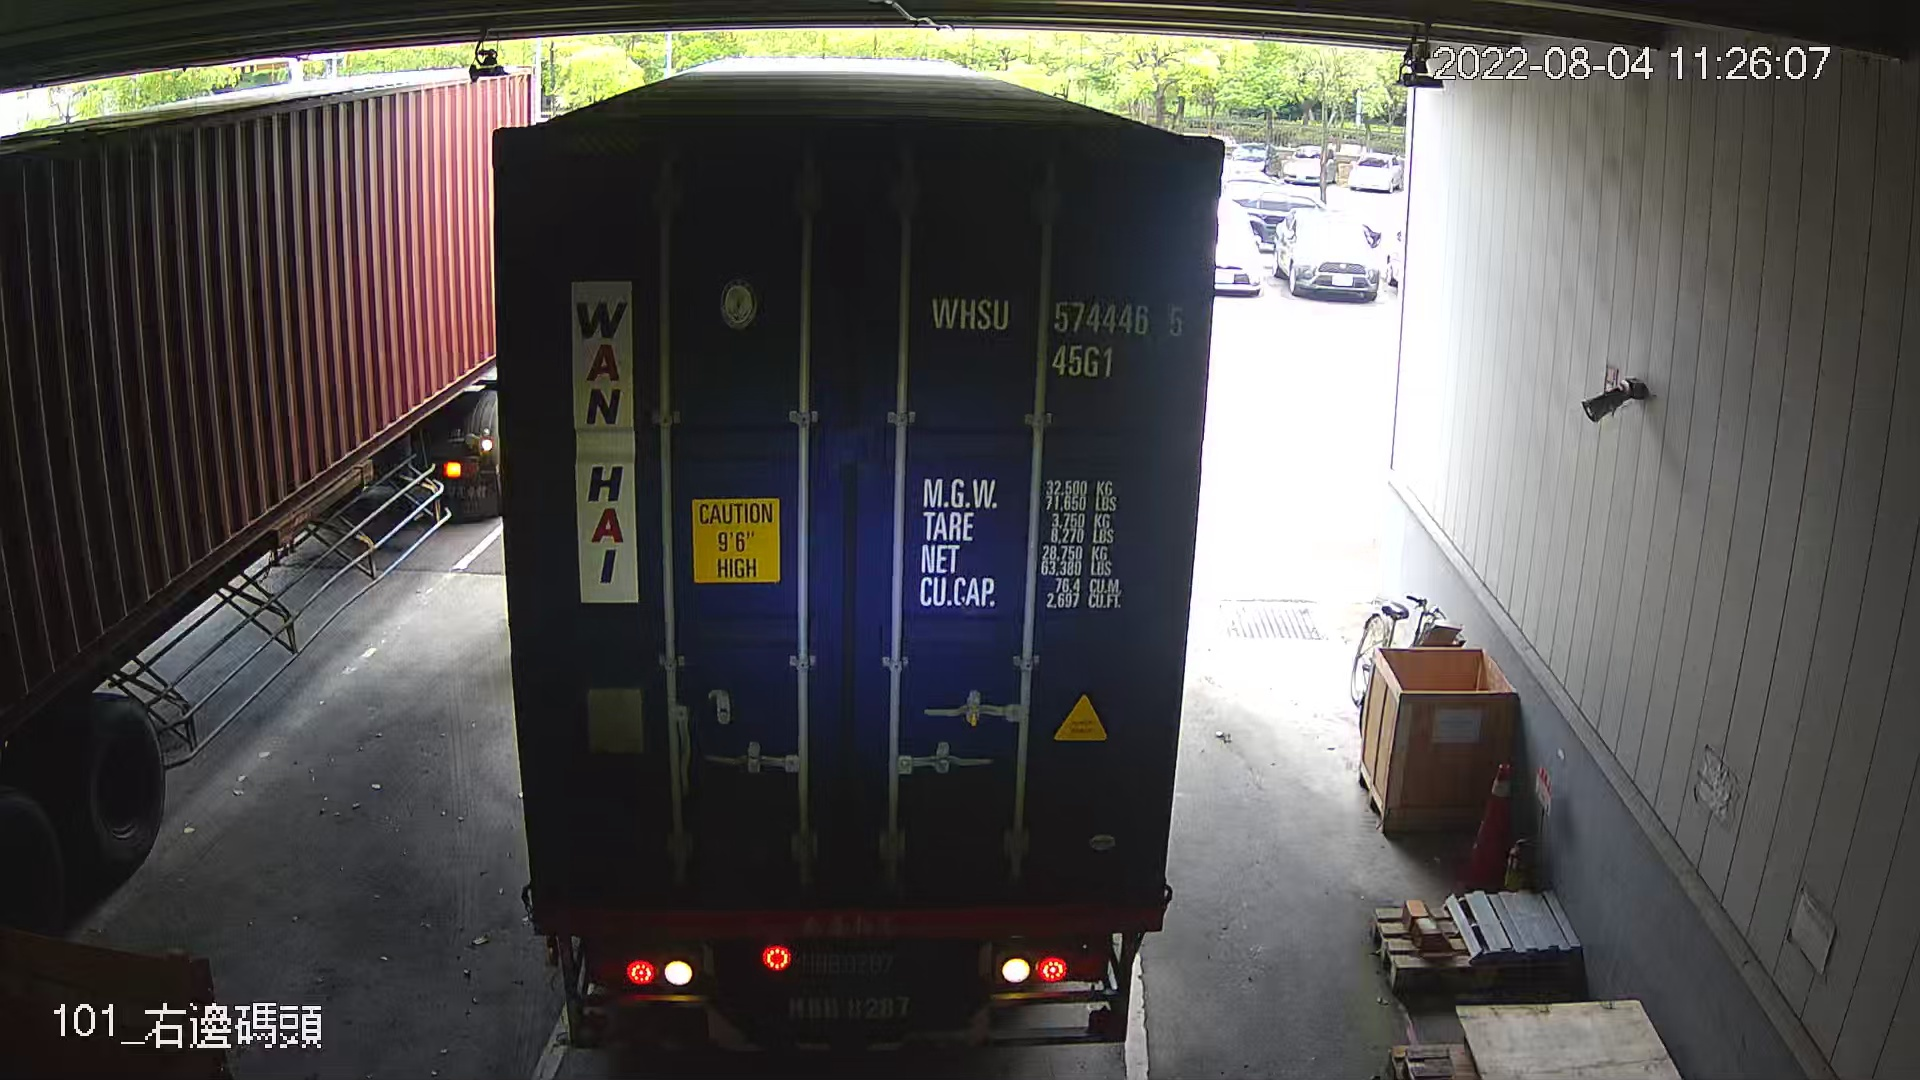container: (920, 280, 1193, 392)
